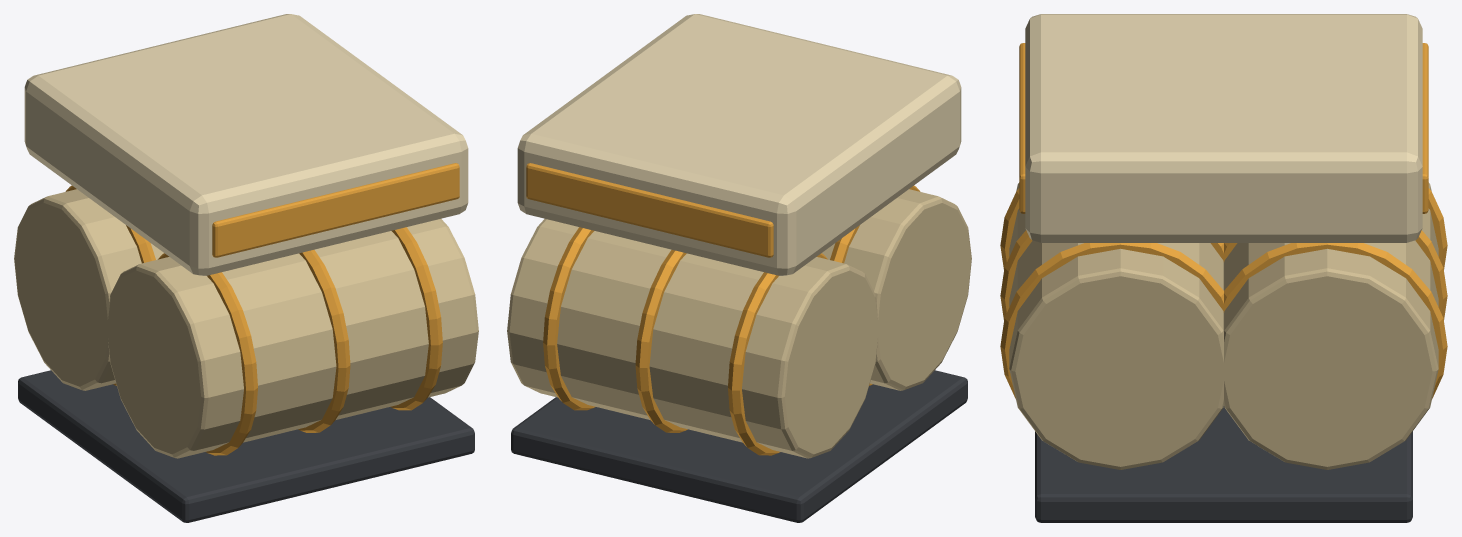
File: cargo-tank.glb
3 renders of one model, left to right at view 1: azimuth 30°, elevation 25°; view 2: azimuth 150°, elevation 25°; view 3: azimuth 270°, elevation 25°, orthographic. The views are drawn at different scales.
Parts seen in each view (by area): view 1: cargo_tank body; view 2: cargo_tank body; view 3: cargo_tank body.
Part boxes in pixels (x1=…): cargo_tank body: x1=14, y1=14, x2=478, y2=522; cargo_tank body: x1=507, y1=14, x2=971, y2=522; cargo_tank body: x1=1000, y1=14, x2=1447, y2=522.
Size of the model in its own units: 1.9 by 2.01 by 2.25.
